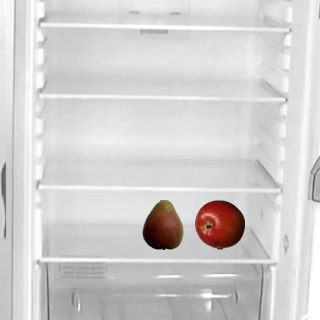Apple Braeburn: (194, 199, 244, 249)
Pear Forelle: (137, 199, 187, 249)
